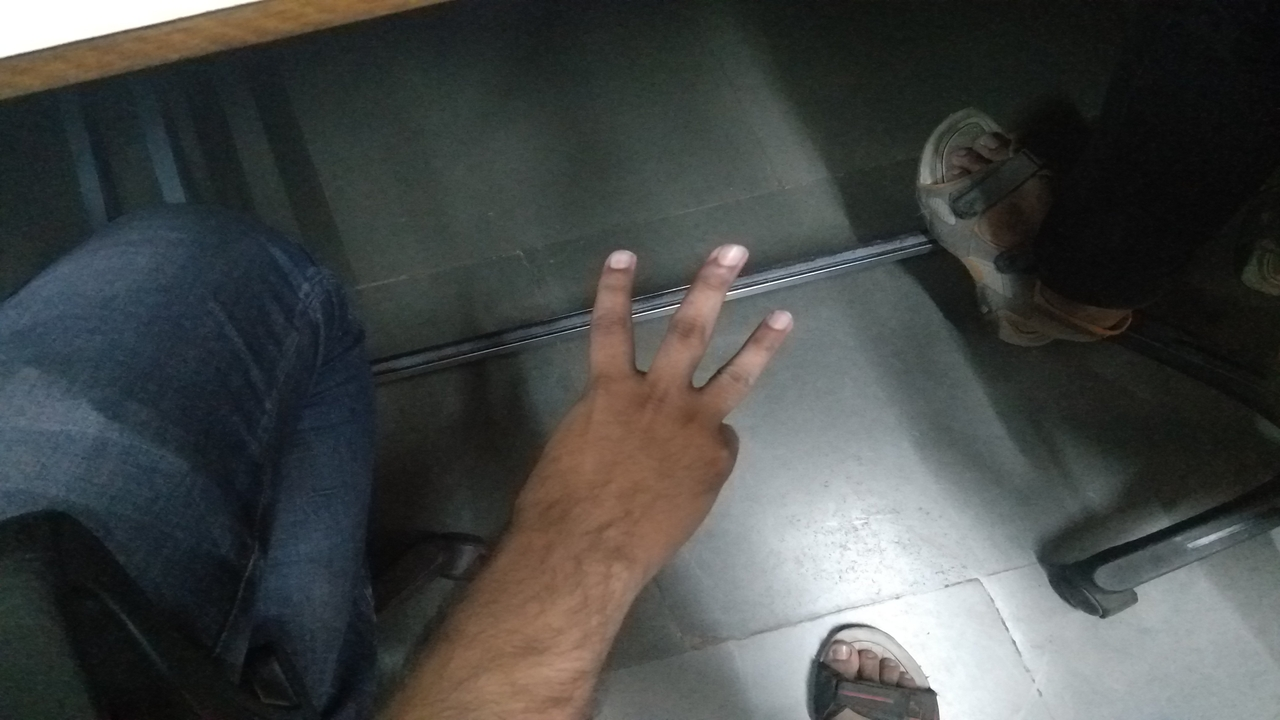fingertip: (690, 228, 760, 286), (746, 296, 806, 348), (594, 240, 646, 280)
